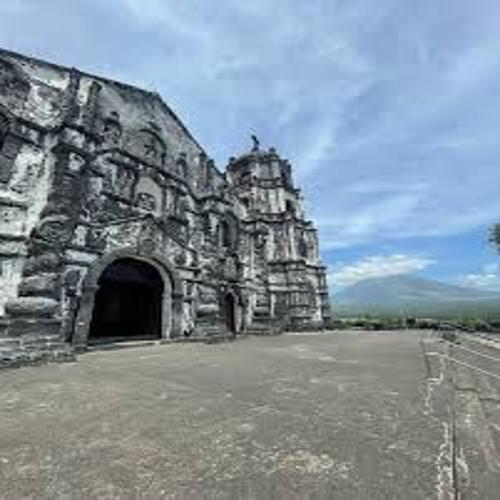Daraga Church: (3, 37, 335, 353)
